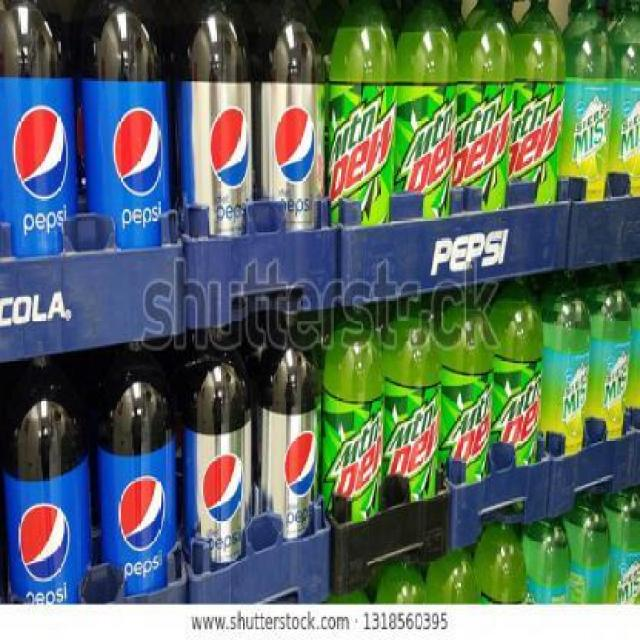Drinks: (0, 350, 94, 602), (76, 0, 170, 249), (94, 345, 178, 590), (0, 0, 77, 257), (171, 0, 252, 240), (178, 331, 255, 574), (250, 0, 327, 232), (326, 1, 399, 228), (256, 309, 321, 545), (322, 306, 386, 525), (397, 0, 458, 220), (458, 0, 515, 215), (385, 296, 441, 506), (441, 286, 497, 488), (516, 1, 566, 208), (496, 270, 544, 472)
